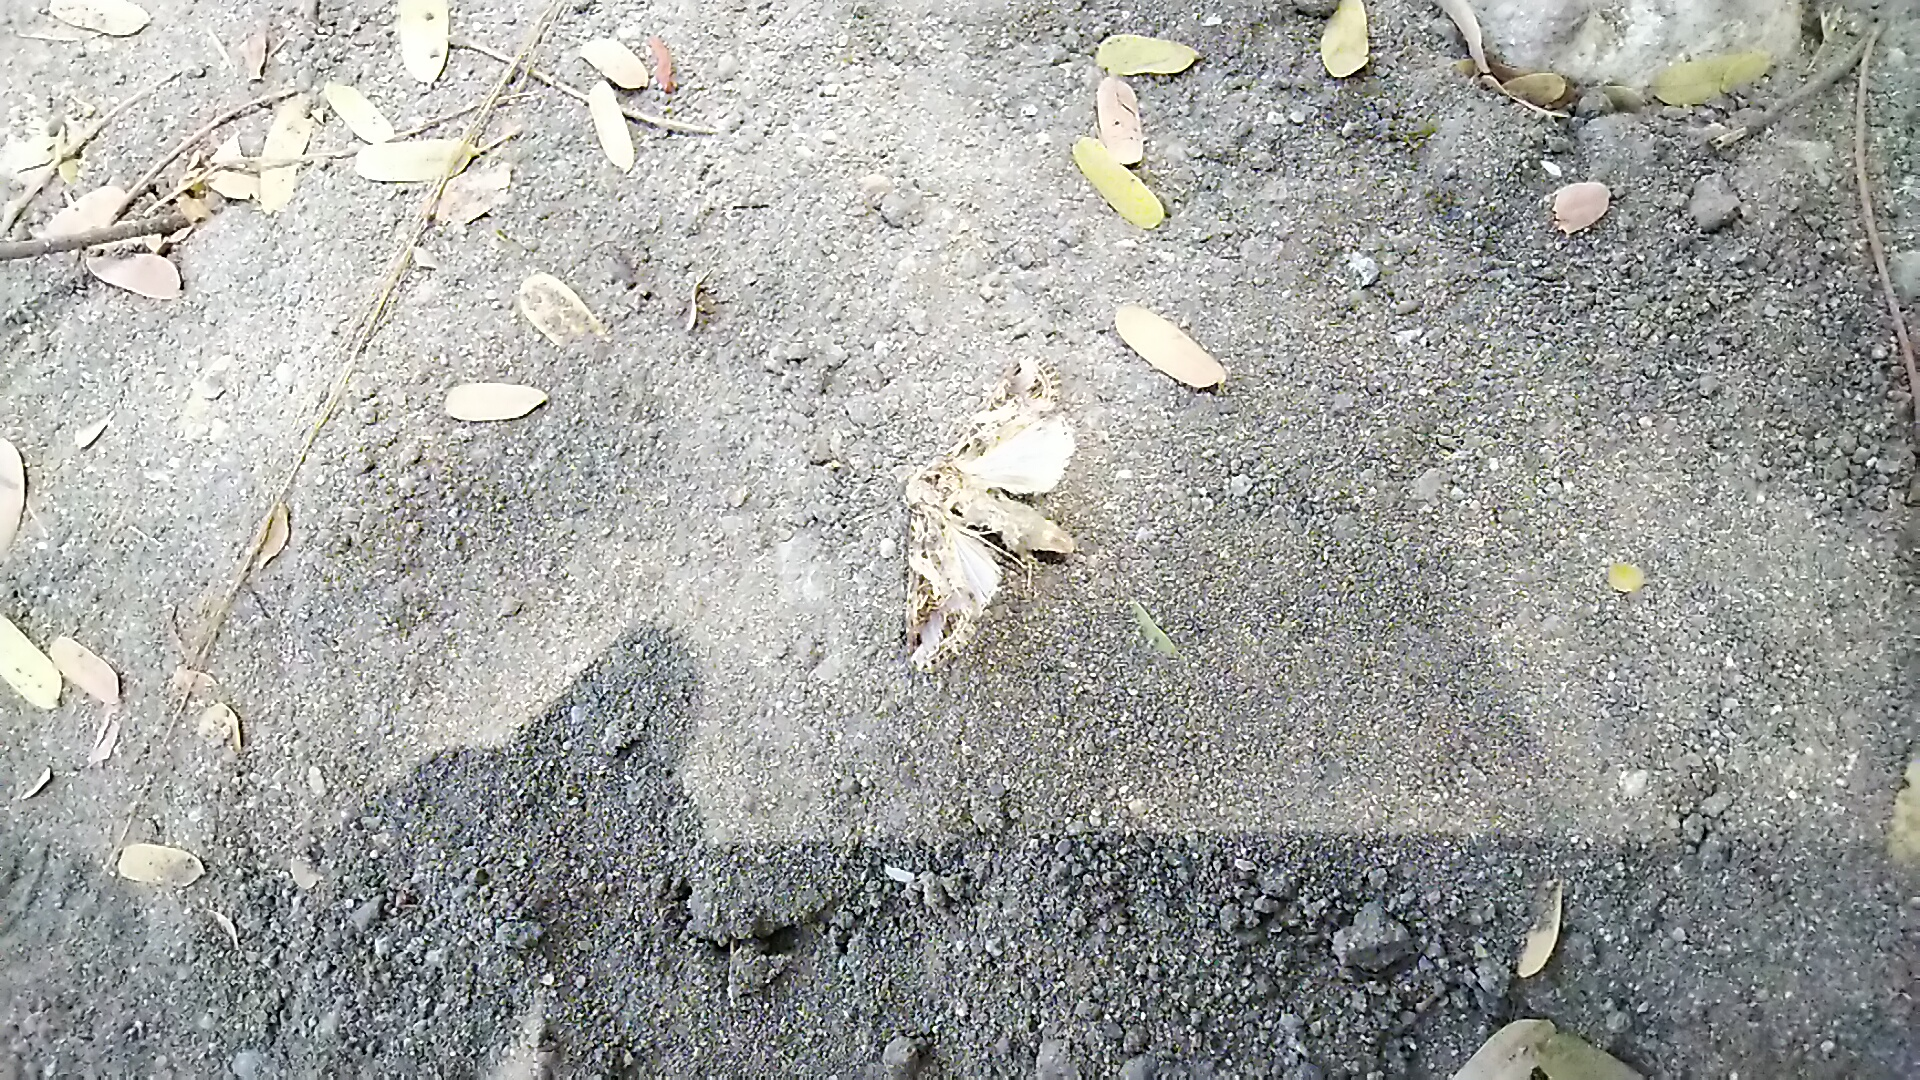INS-B: (858, 335, 1114, 667)
